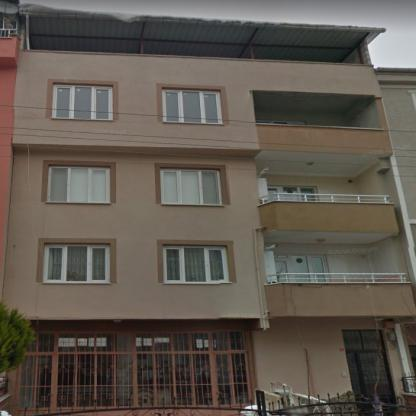door: (347, 352, 396, 403), (276, 262, 288, 280)
window: (15, 329, 252, 407), (42, 243, 109, 283), (164, 244, 228, 284), (52, 84, 113, 120), (161, 169, 222, 205), (49, 166, 109, 202), (162, 90, 221, 124), (275, 254, 331, 282), (341, 329, 386, 350)
